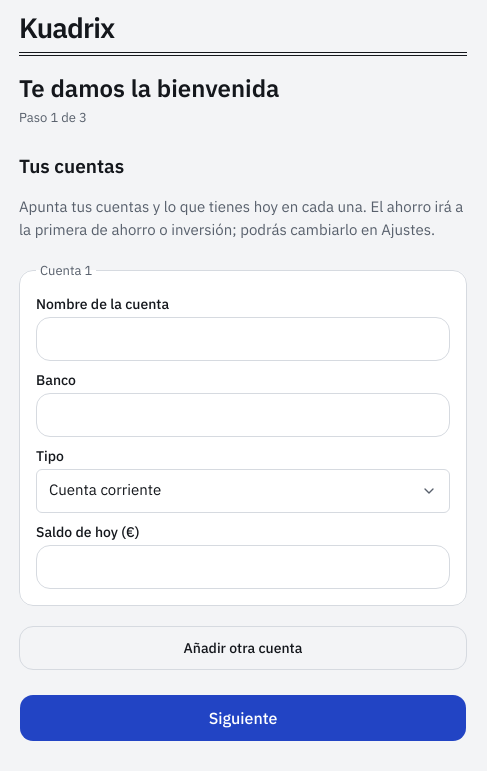
Test: OnboardingWizard › no avanza sin nombre de cuenta y deja saltar la nómina
The image size is (487, 771).
Click the button "Siguiente" at x=243, y=718, box [19, 694, 467, 742]
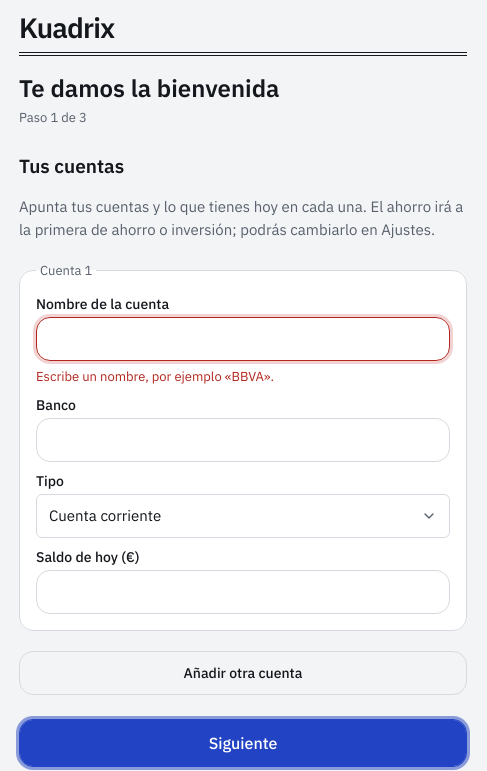
Expected: the message reads "Escribe un nombre, por ejemplo «BBVA».", [36, 368, 274, 384]
Type "BBVA" into the field labelled "Nombre de la cuenta" at x=243, y=338, box [36, 316, 450, 360]
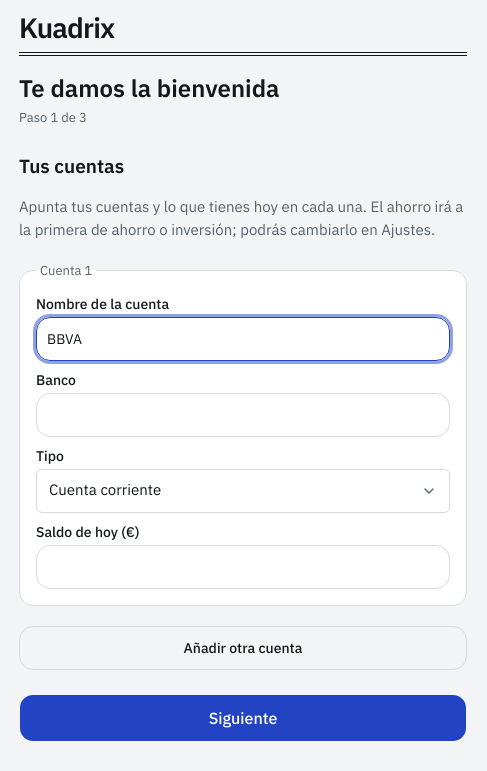
Click the button "Siguiente" at x=243, y=718, box [19, 694, 467, 742]
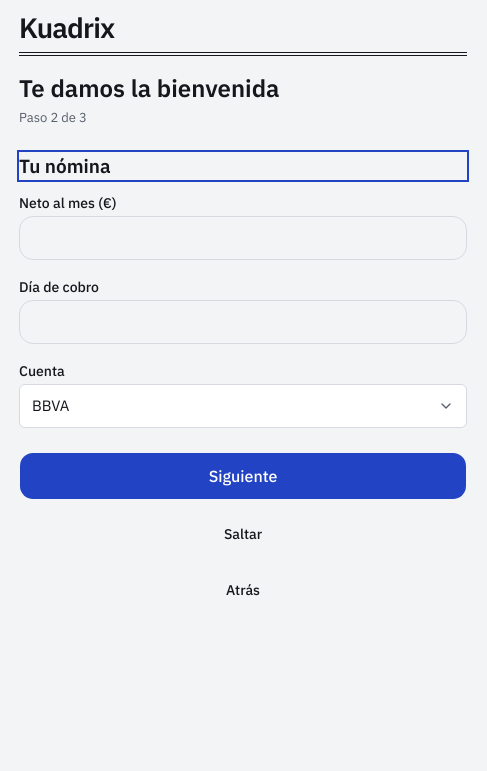
Click the button "Saltar" at x=243, y=534, box [19, 512, 467, 556]
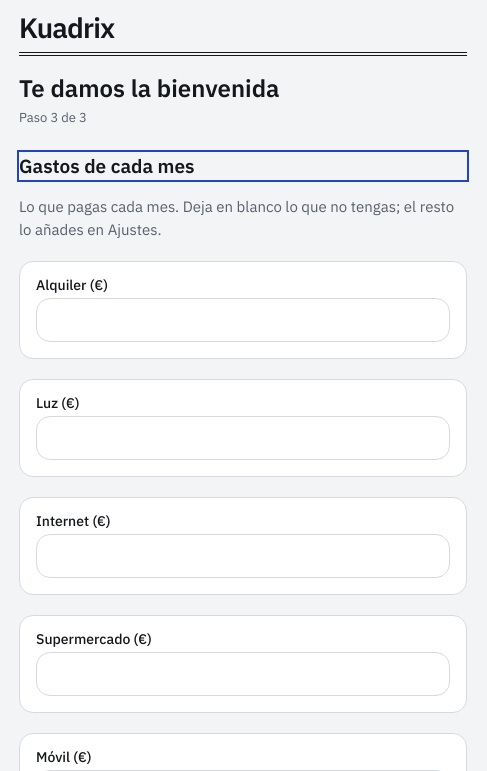
Expected: the text "Paso 3 de 3" is shown, [19, 109, 87, 126]
